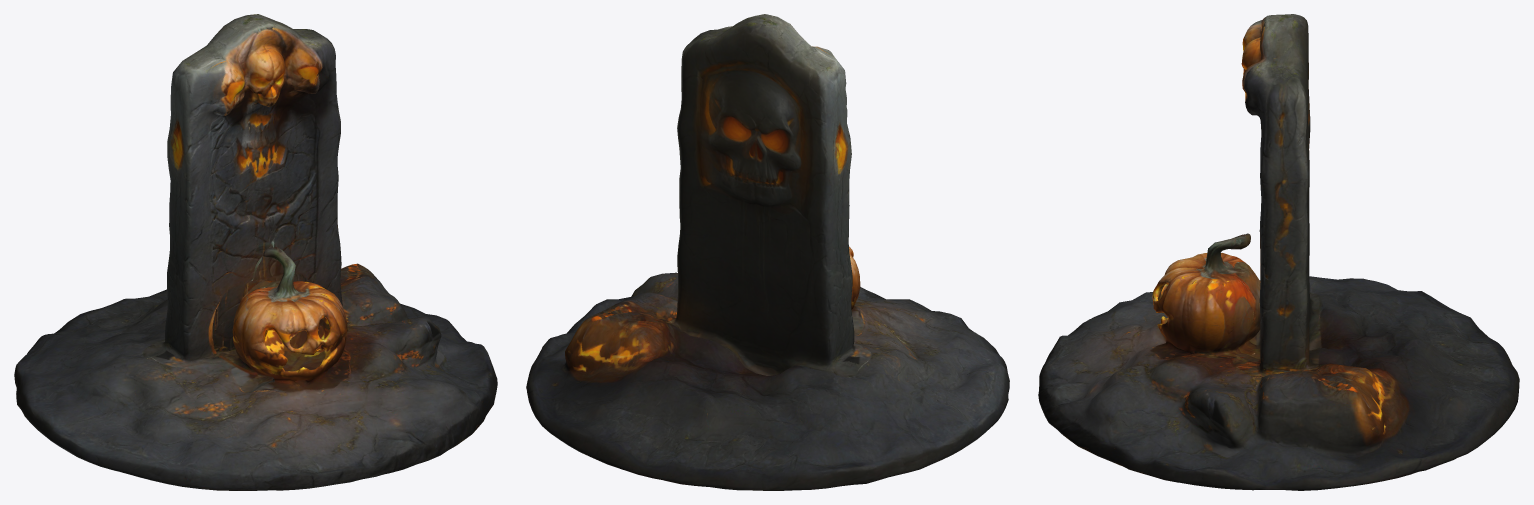
Rendered from stone.glb.
The picture shows the model from 3 angles, left to right: view 1: azimuth 30°, elevation 25°; view 2: azimuth 150°, elevation 25°; view 3: azimuth 270°, elevation 25°; orthographic projection.
Size of the model in its own units: 1.99 by 1.7 by 1.99.
Materials: 1 (1 with a texture image).
